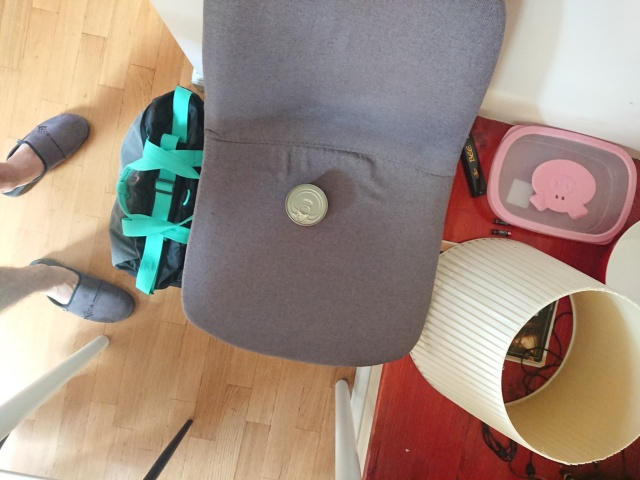Gavrilovic Pork Liver Pate 100g: (283, 181, 329, 228)
